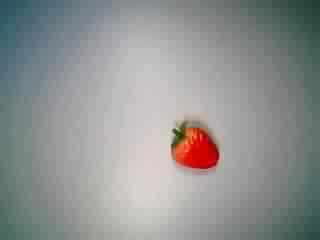strawberry: (165, 112, 231, 178)
